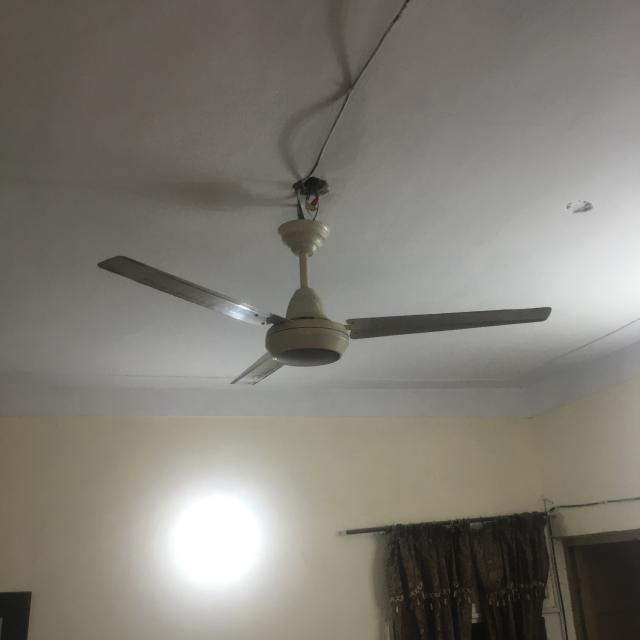off: (92, 242, 555, 390)
